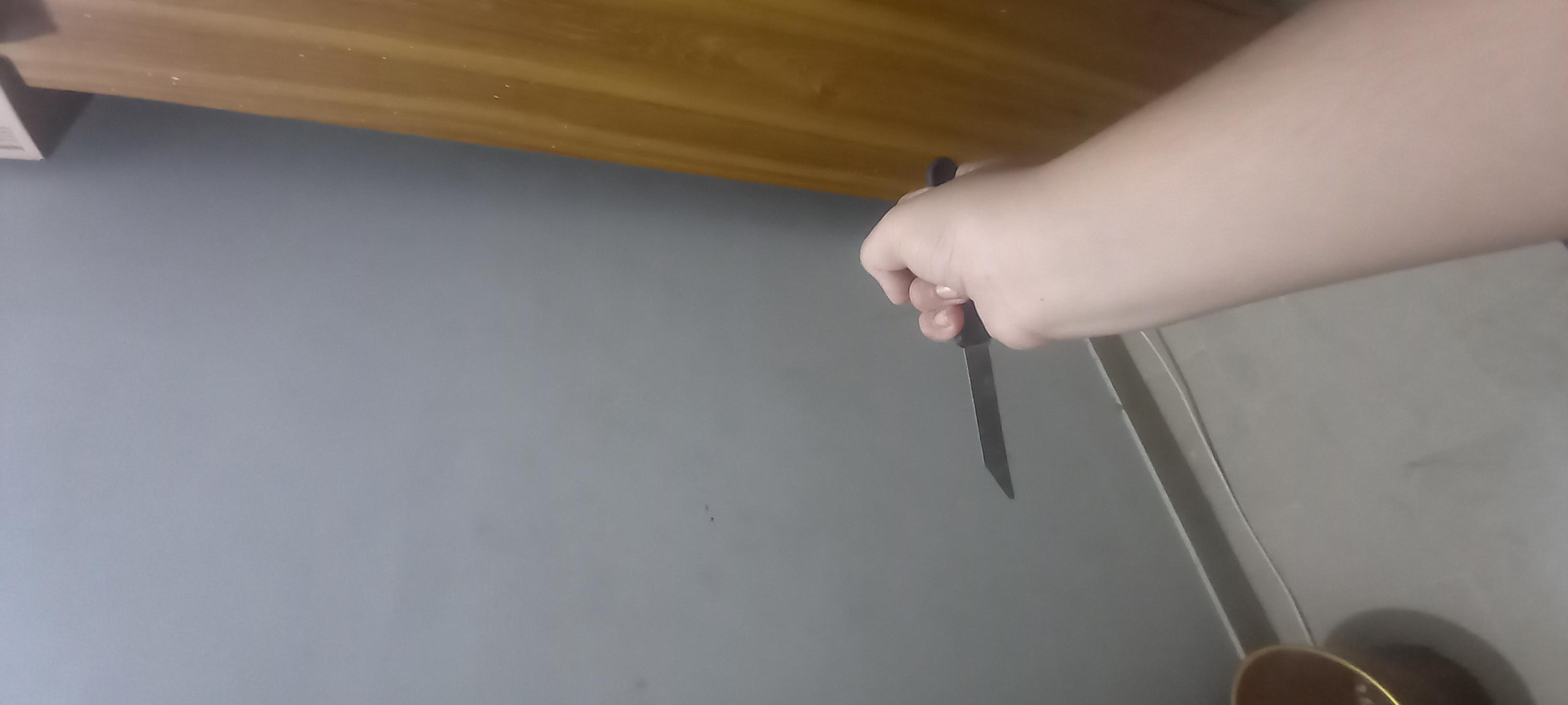knives: (437, 411, 1250, 460)
